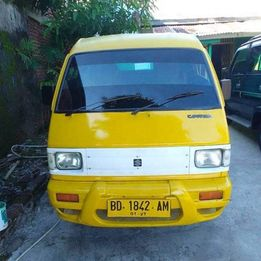plate: (108, 197, 171, 221)
